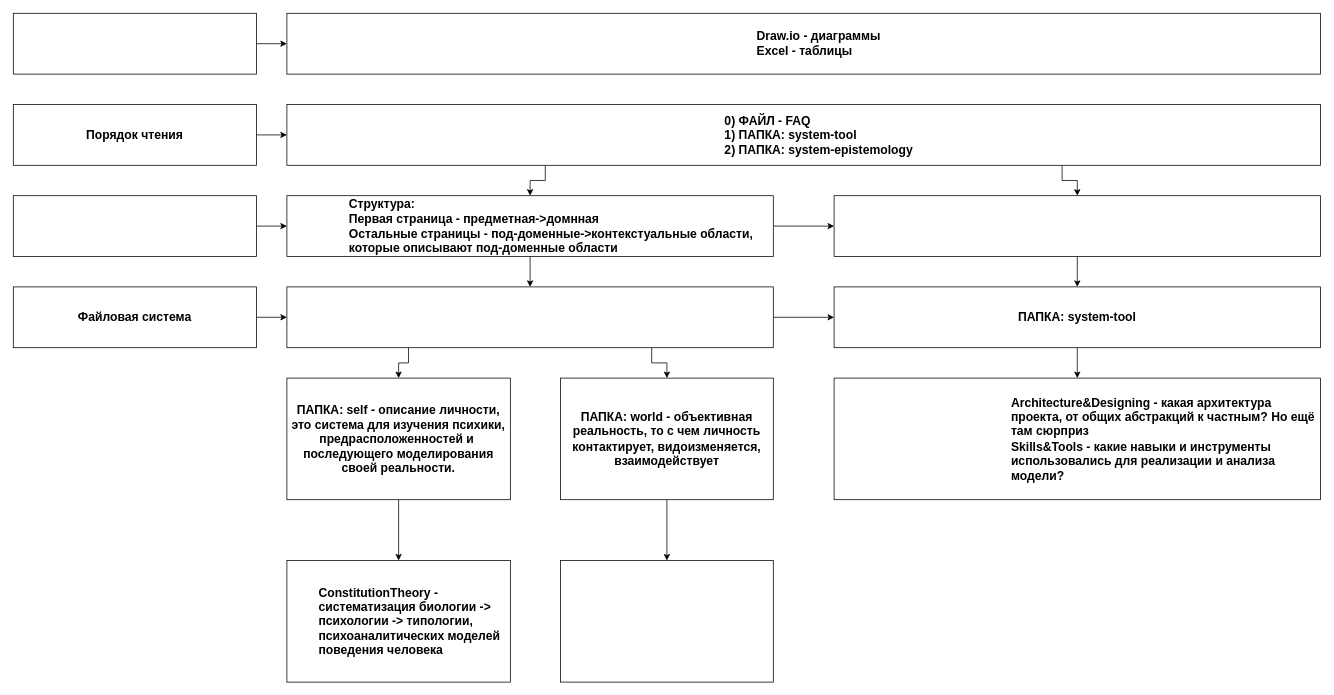
Some shapes in this 1334 by 695 pixel diagram are drawn without their labels. Each missing label, with the centre of its shape:
Архитектура диаграмм: point 134,225
Набор программ: point 134,43
ПАПКА: system-epistemology: point 529,317
Потом отнесу к другой категории Car - пока только так, о машине: point 666,621
Структура: Название файл = страницы с конкретной областью -> реализация страницы: point 1076,225
